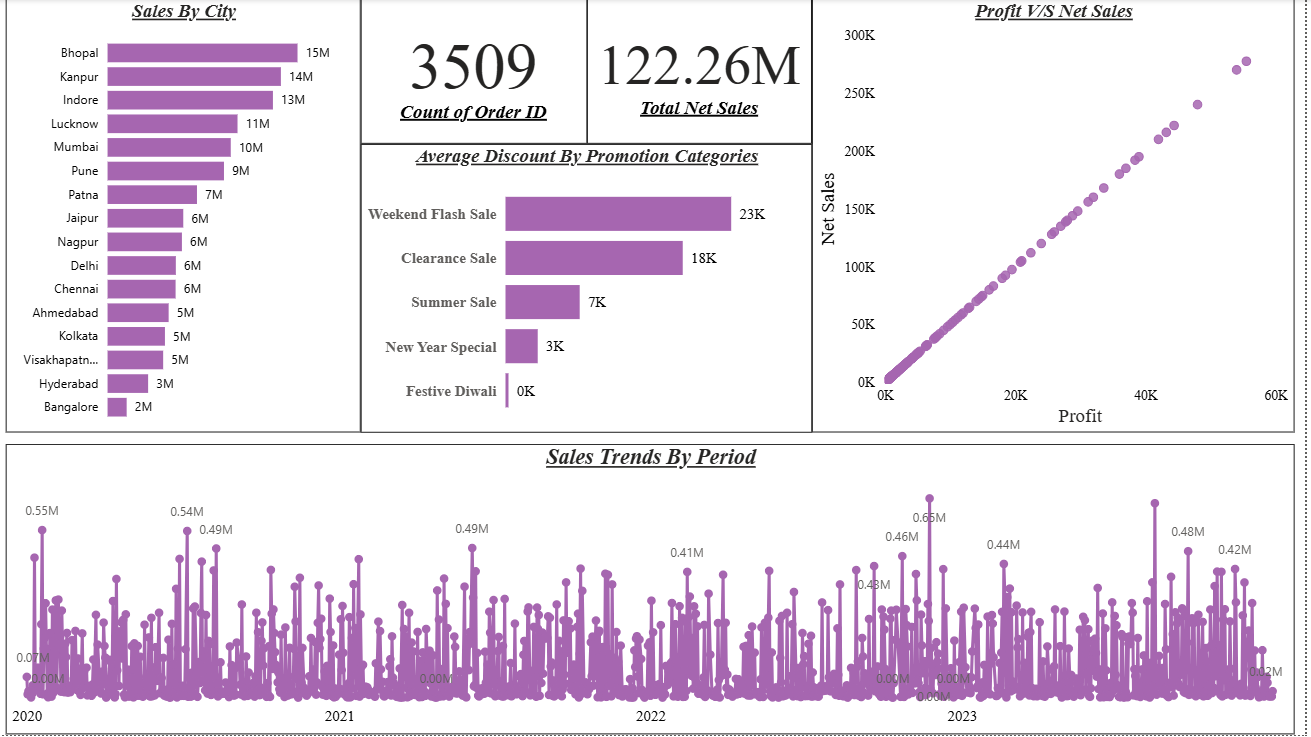

The dashboard page shown, as its layout file describes it:
{"tool":"powerbi","page":{"name":"Overview","canvas":[1280,720],"ordinal":0},"visuals":[{"type":"lineChart","title":"Sales Trends By Period","fields":{"Y":["Sum(Fact Table.Net Sales  )"],"Category":["Fact Table.Date (dd/mm/yyyy).Variation.Date Hierarchy.Year"]},"box":[8.6,435.3,1260.7,283.7],"z":0},{"type":"scatterChart","title":"Profit V/S  Net Sales  ","fields":{"Y":["Fact Table.Net Sales  "],"X":["Fact Table.Profit"]},"box":[797.3,0,472,424.3],"z":1000},{"type":"barChart","title":"Average Discount By Promotion Categories","fields":{"Y":["Avg(Fact Table.Discount Value)"],"Category":["Dim Promotion.Promotion Name"]},"box":[355.8,141.8,441.4,282.5],"z":2000},{"type":"barChart","title":"Sales By City","fields":{"Category":["Dim Customers.City"],"Y":["Sum(Fact Table.Net Sales  )"]},"box":[8.6,0,347.3,424.3],"z":3000},{"type":"card","fields":{"Values":["Count(Fact Table.Order ID)"]},"box":[355.8,0,221.3,141.8],"z":4000},{"type":"card","fields":{"Values":["Measure Table.Sum Dim"]},"box":[577.2,0,220.1,141.8],"z":5000}]}

Visuals, with their boxes in screenshot pixels (x1, y1, x2, y2), scaled from the page's 1280x720 canvas onto the 1311x737 screenshot:
"Sales Trends By Period" lineChart: BBox(9, 446, 1300, 736)
"Profit V/S  Net Sales  " scatterChart: BBox(817, 0, 1300, 434)
"Average Discount By Promotion Categories" barChart: BBox(364, 145, 817, 434)
"Sales By City" barChart: BBox(9, 0, 365, 434)
card - Count(Fact Table.Order ID): BBox(364, 0, 591, 145)
card - Measure Table.Sum Dim: BBox(591, 0, 817, 145)
